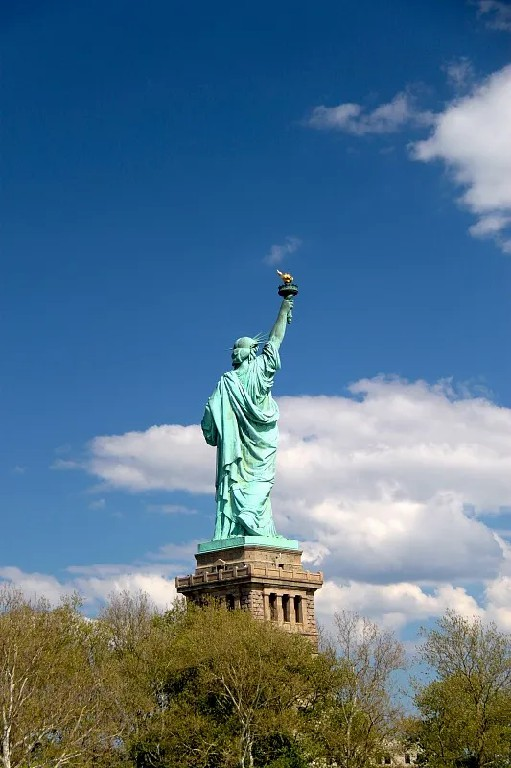SL: (176, 268, 324, 659)
